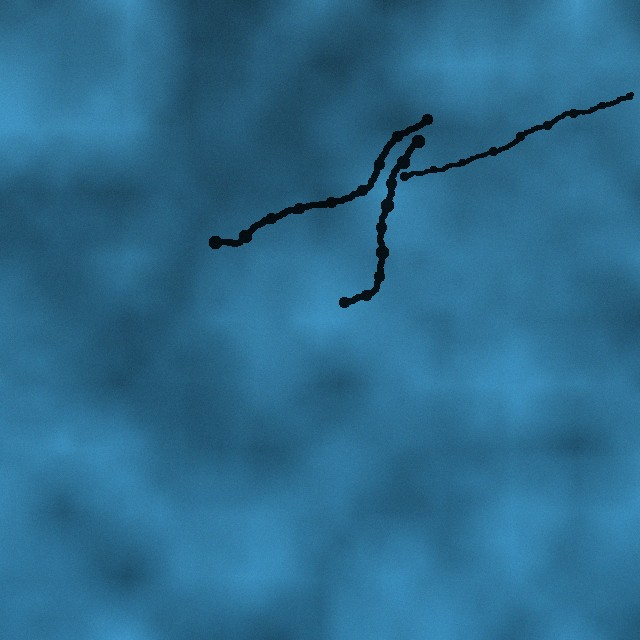crack: (209, 112, 433, 249), (400, 89, 636, 180), (338, 135, 424, 308)
